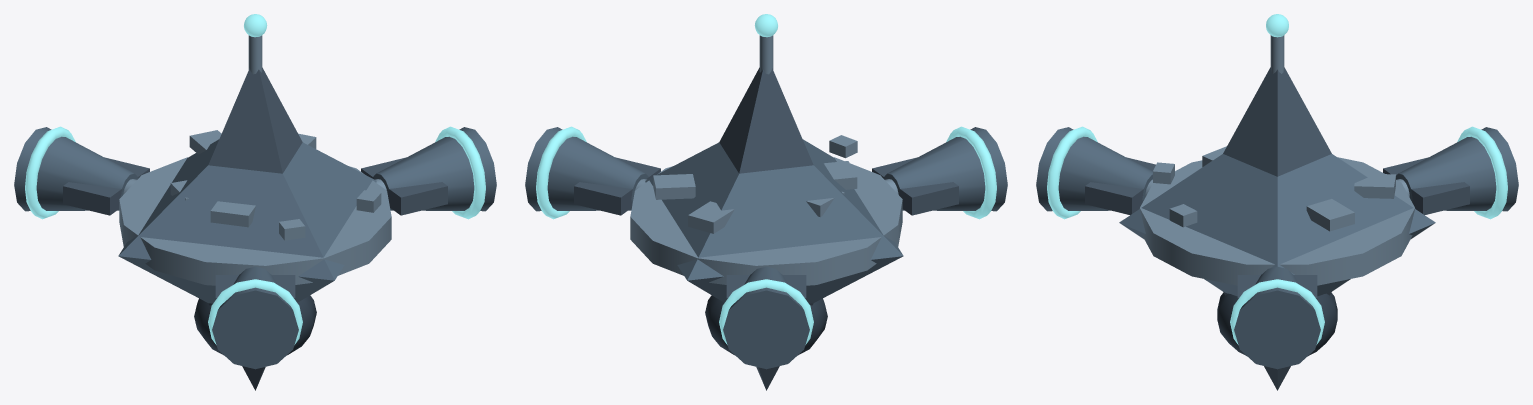
The model's file is drone.glb.
3 renders of one model, left to right at view 1: azimuth 30°, elevation 25°; view 2: azimuth 150°, elevation 25°; view 3: azimuth 270°, elevation 25°, orthographic.
Visible parts, largest first — view 1: drone; view 2: drone; view 3: drone.
Part boxes in pixels (bbox=[...]): drone: bbox=[14, 14, 496, 390]; drone: bbox=[525, 14, 1007, 390]; drone: bbox=[1036, 14, 1518, 390].
Size of the model in its own units: 2.31 by 2.29 by 2.66.
